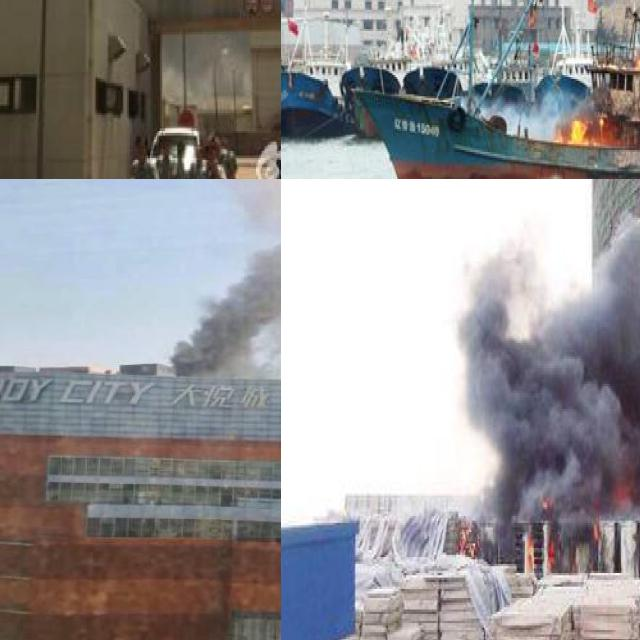fire: (556, 115, 598, 146), (456, 516, 476, 553)
smoke: (457, 179, 640, 513), (171, 179, 281, 374), (454, 78, 604, 140)
